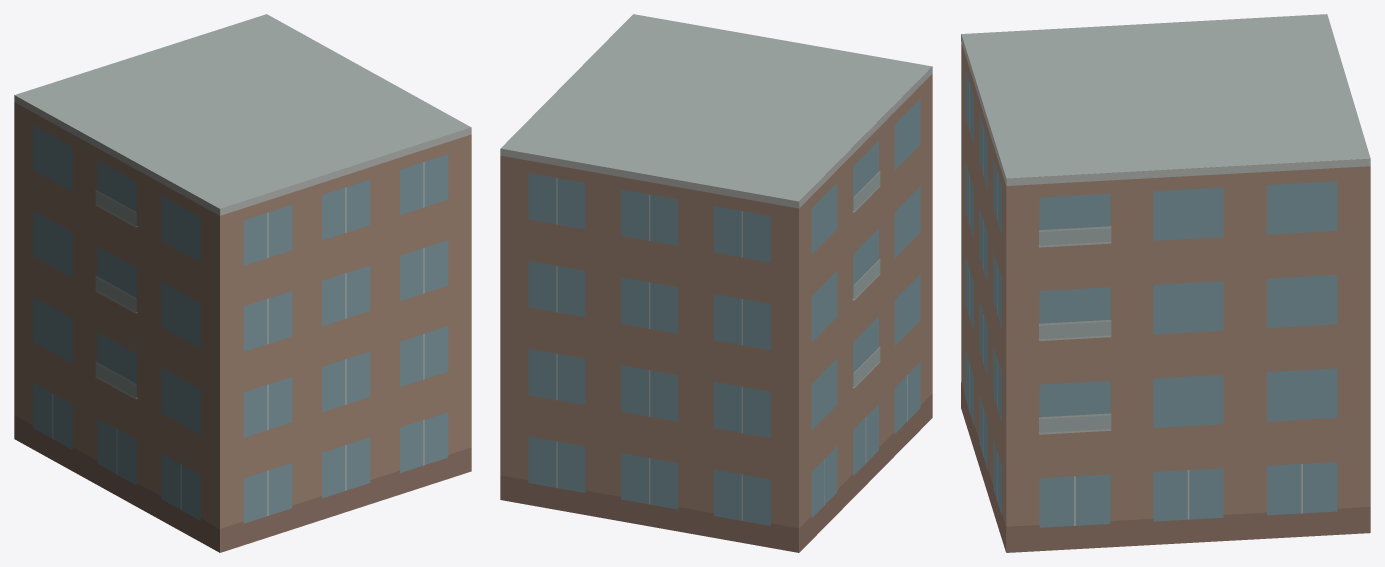
The model's file is survey-upis-32531901.glb.
3 views of the same model, side by side, from view 1: azimuth 30°, elevation 25°; view 2: azimuth 150°, elevation 25°; view 3: azimuth 270°, elevation 25° (orthographic). The views are drawn at different scales.
Visible parts, largest first — view 1: survey-upis-32531901.tmp; view 2: survey-upis-32531901.tmp; view 3: survey-upis-32531901.tmp.
Part boxes in pixels (left/top/right/bottom): survey-upis-32531901.tmp: left=14, top=14, right=471, bottom=552; survey-upis-32531901.tmp: left=500, top=14, right=932, bottom=552; survey-upis-32531901.tmp: left=961, top=14, right=1370, bottom=552.
Bounding box in the file's own units: 11.47 × 12.15 × 12.06.
